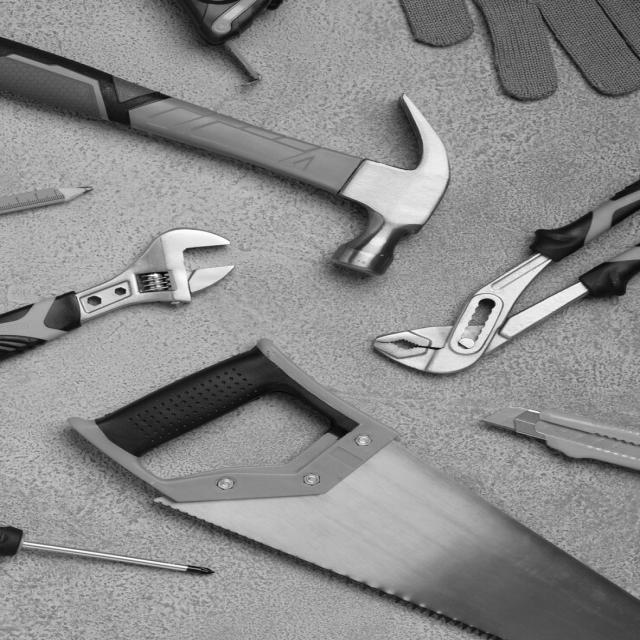golves: (402, 0, 639, 98)
hammer: (0, 36, 480, 288)
measuring_tape: (164, 0, 313, 96)
pencil: (0, 165, 140, 242)
saw: (59, 327, 639, 639)
screwdriver: (0, 515, 240, 593)
utility_knife: (463, 394, 639, 479)
wrench: (332, 169, 639, 401), (0, 220, 266, 368)
